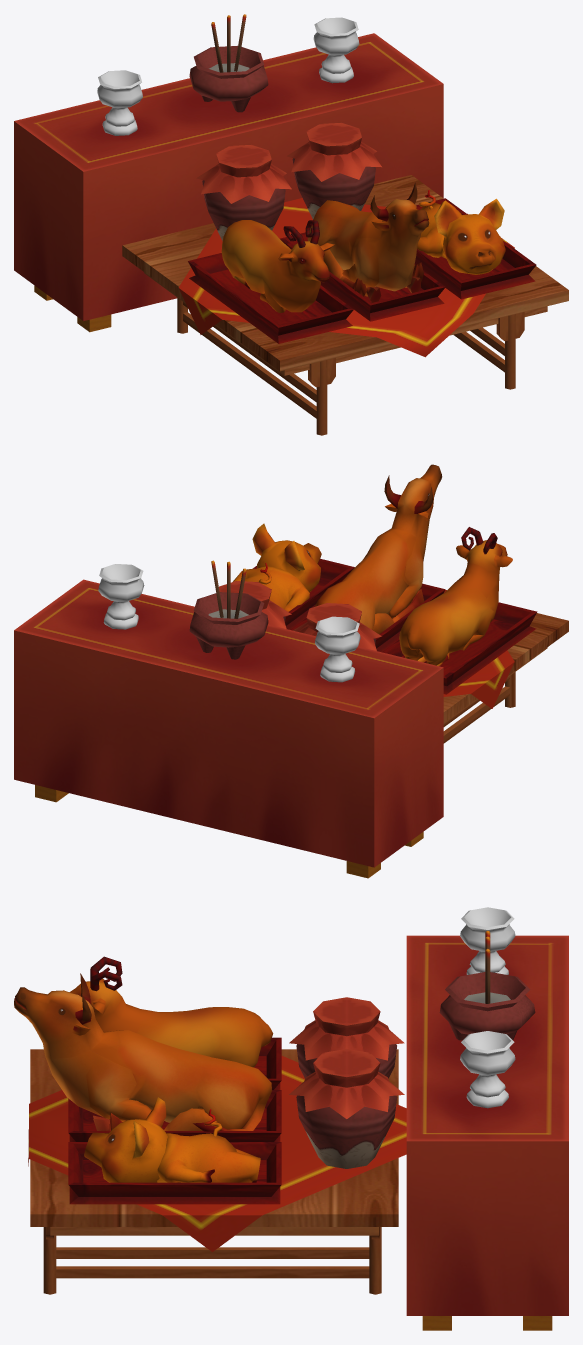
The model's file is p_jitai.fbx.
The picture shows the model from 3 angles, top to bottom: view 1: azimuth 30°, elevation 25°; view 2: azimuth 150°, elevation 25°; view 3: azimuth 270°, elevation 25°; orthographic projection. The views are drawn at different scales.
Visible parts, largest first — view 1: mesh_jitai; view 2: mesh_jitai; view 3: mesh_jitai.
Boxes of the visible parts, <box> form: mesh_jitai: <box>14,14,568,435</box>; mesh_jitai: <box>14,464,568,878</box>; mesh_jitai: <box>14,907,568,1330</box>.
Bounding box in the file's own units: 200 × 137 × 228.
Materials: 2 (1 with a texture image).
